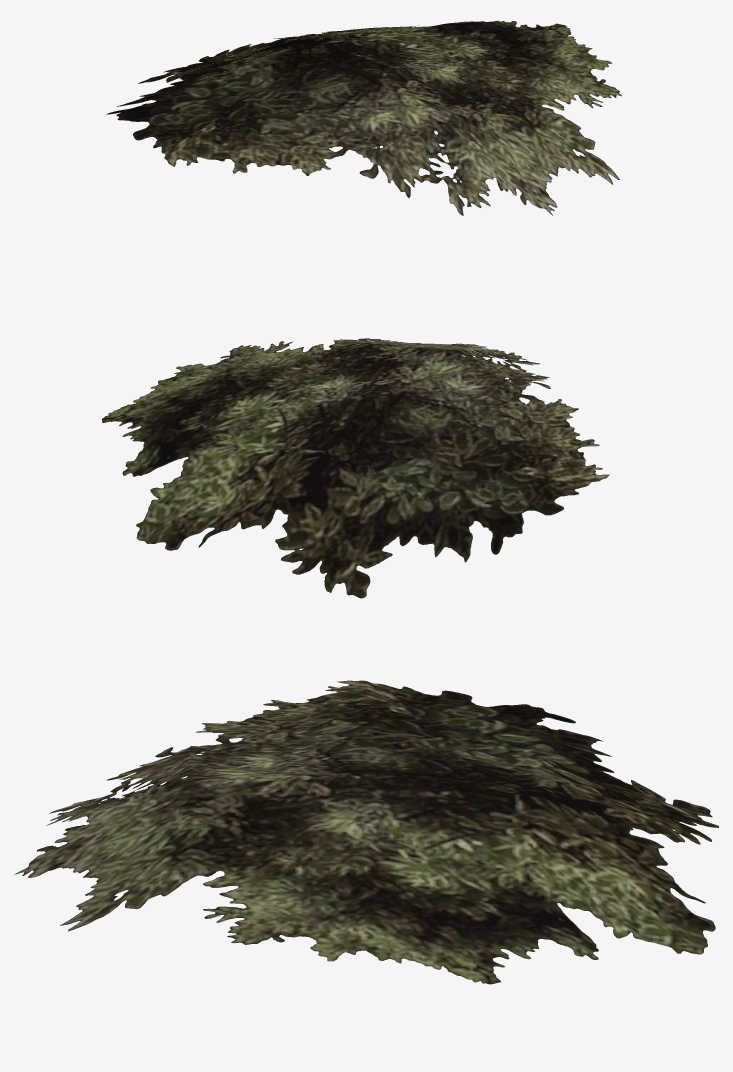
The picture shows the model from 3 angles, top to bottom: view 1: azimuth 30°, elevation 25°; view 2: azimuth 150°, elevation 25°; view 3: azimuth 270°, elevation 25°; orthographic projection. The views are drawn at different scales.
Parts seen in each view (by area): view 1: SMDImport; view 2: SMDImport; view 3: SMDImport.
Boxes of the visible parts, <box> form: SMDImport: <box>106,20,621,215</box>; SMDImport: <box>102,338,609,598</box>; SMDImport: <box>14,680,718,984</box>.
Size of the model in its own units: 262 by 52.89 by 256.
